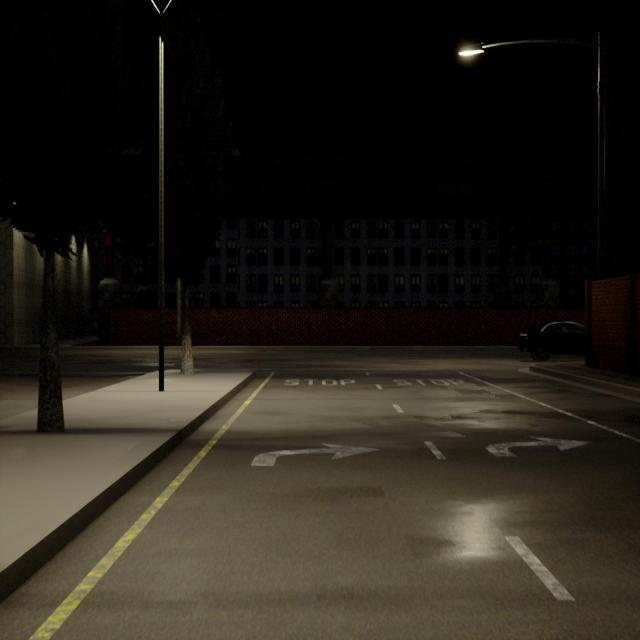Vehicle: (518, 322, 584, 361)
